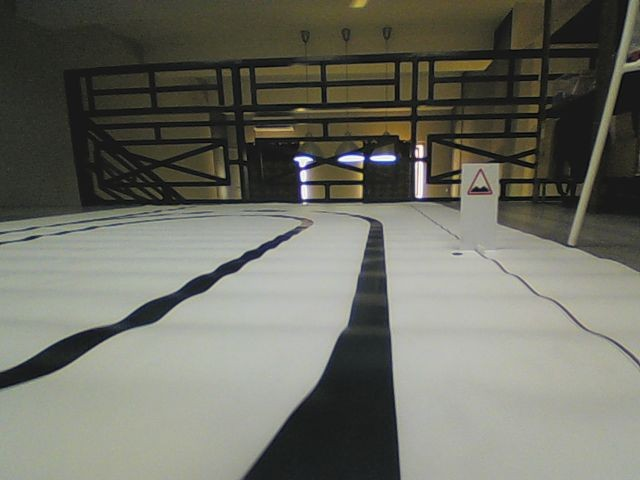Nerov: (465, 165, 494, 197)
